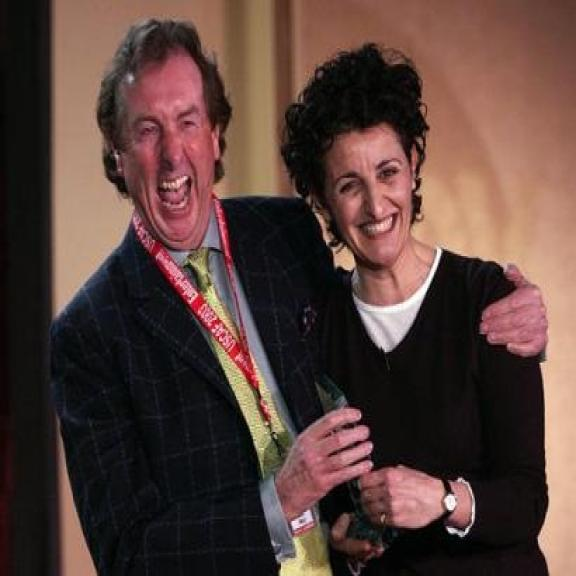face: (104, 51, 226, 254), (312, 129, 423, 275)
